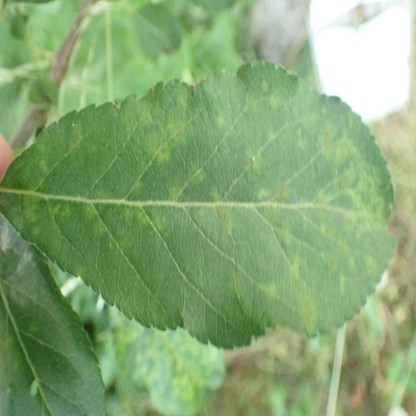scab: (24, 82, 384, 335), (7, 254, 36, 305), (0, 337, 18, 397), (1, 222, 10, 253)
